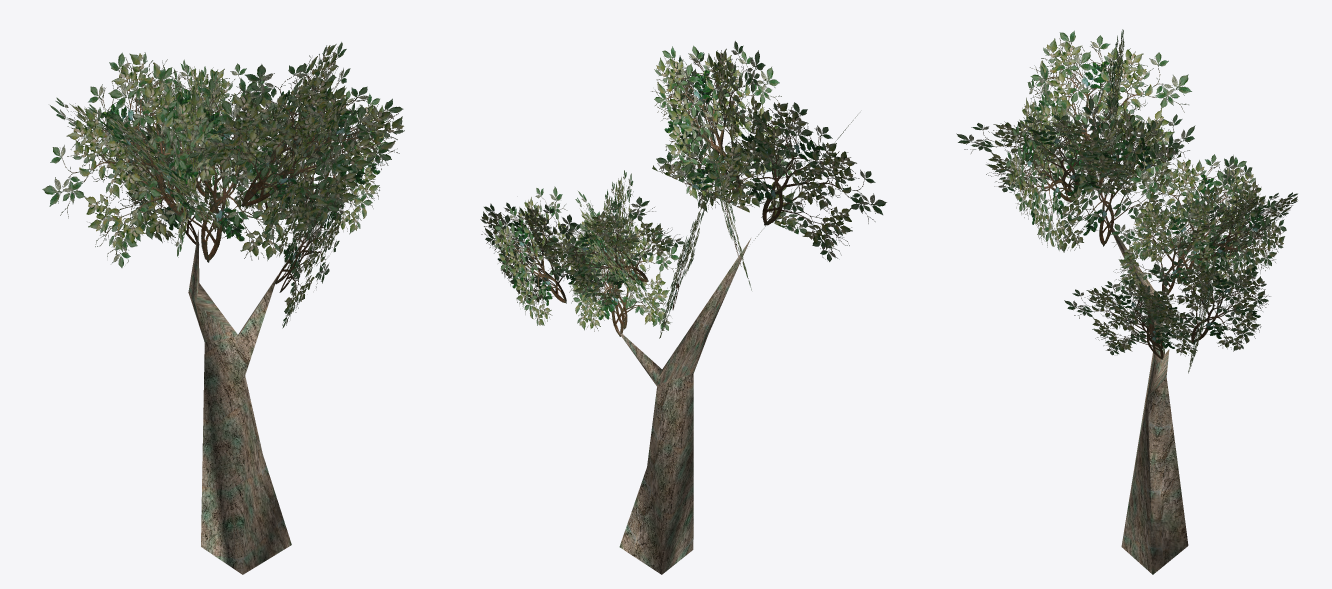
Rendered from decd_dogwoodtreeleaves_l2.fbx.
3 renders of one model, left to right at view 1: azimuth 30°, elevation 25°; view 2: azimuth 150°, elevation 25°; view 3: azimuth 270°, elevation 25°, orthographic. The views are drawn at different scales.
Visible parts, largest first — view 1: mesh_node; view 2: mesh_node; view 3: mesh_node.
Part boxes in pixels (x1=…): mesh_node: x1=42, y1=42, x2=404, y2=574; mesh_node: x1=480, y1=41, x2=886, y2=574; mesh_node: x1=956, y1=29, x2=1297, y2=574.
Size of the model in its own units: 12.69 by 15.71 by 10.86.
